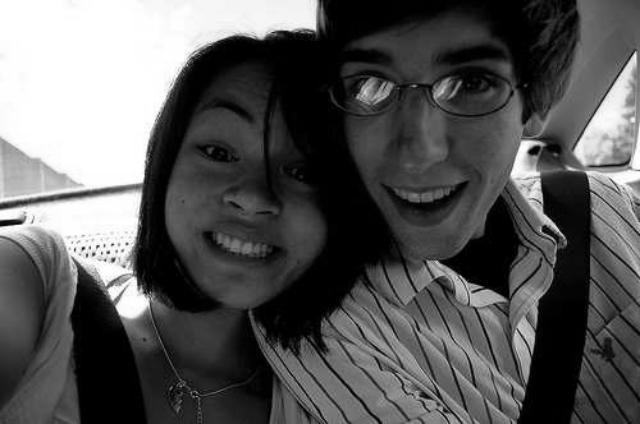SafeDriving: (442, 62, 504, 102), (191, 129, 238, 170)
Seatbelt: (509, 137, 596, 424), (66, 261, 153, 424)
